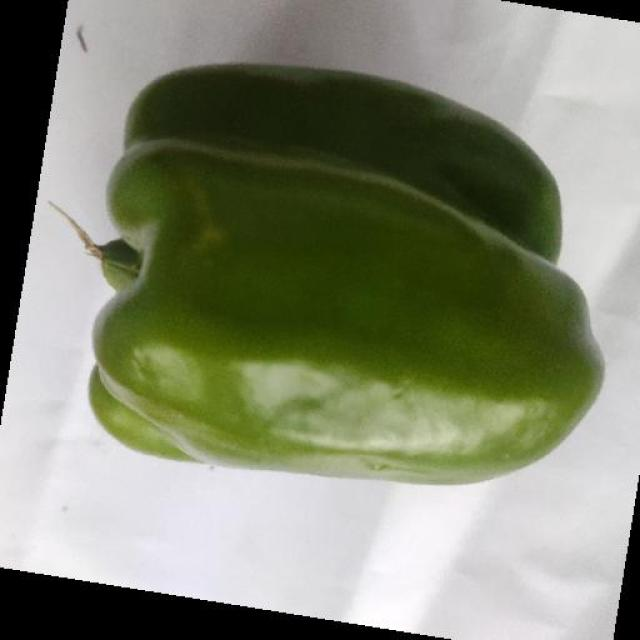Stale_Capsicum: (100, 45, 603, 401)
